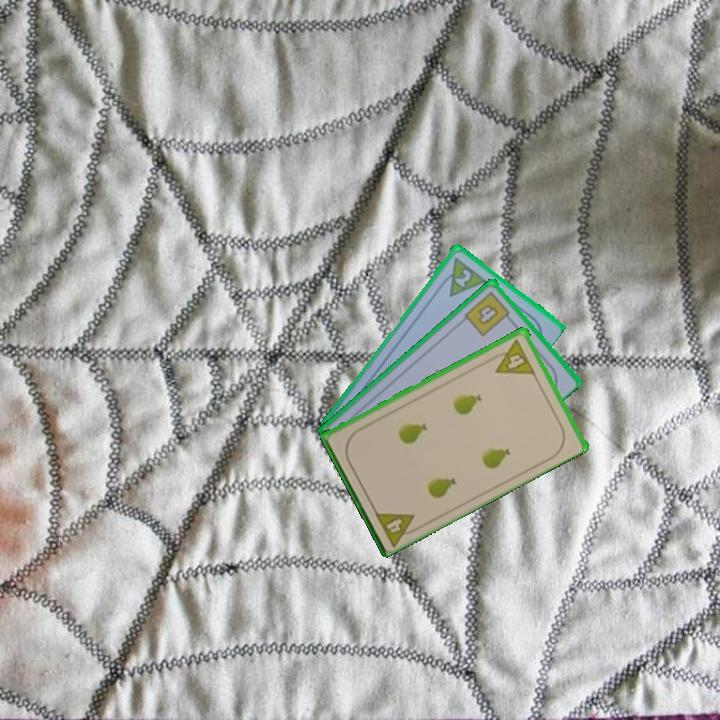2p: (451, 265, 474, 290)
4b: (461, 287, 515, 339)
4p: (371, 506, 424, 548), (487, 335, 537, 377)
